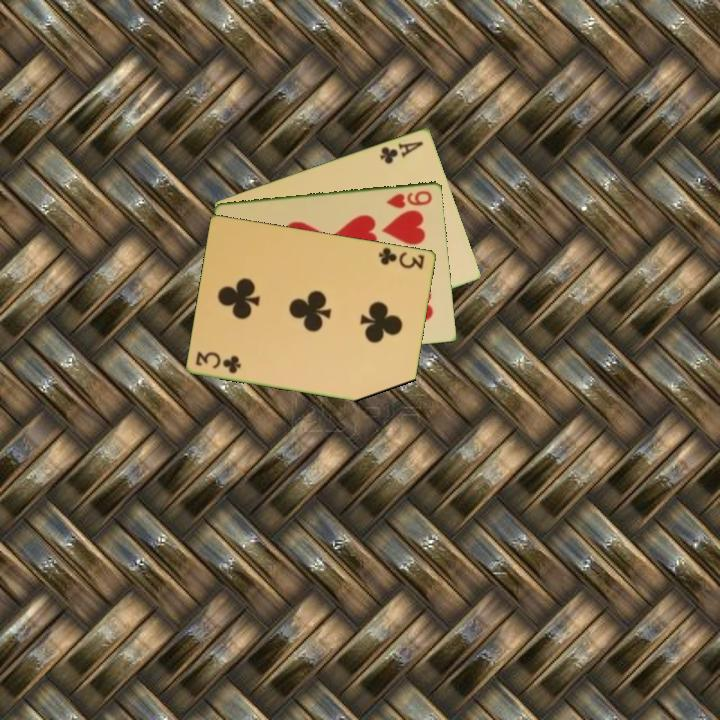3c: (375, 243, 427, 272), (192, 348, 244, 376)
9h: (383, 187, 435, 211)
Ac: (377, 137, 426, 167)
